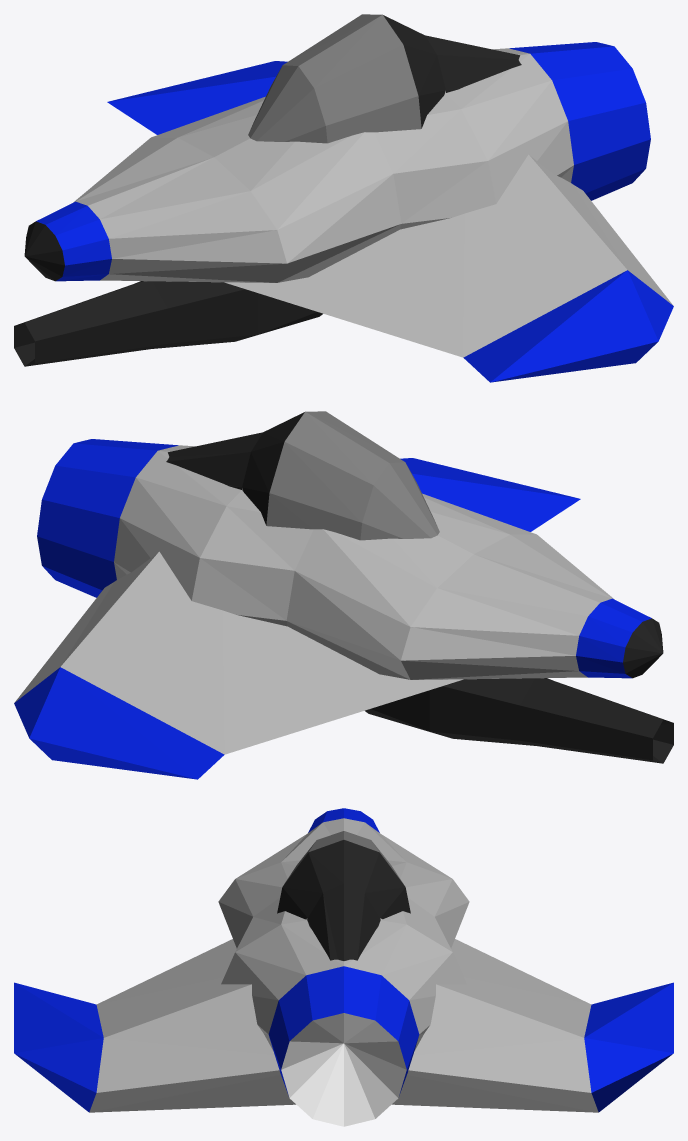
Rendered from Fly.glb.
3 views of the same model, one above another, from view 1: azimuth 30°, elevation 25°; view 2: azimuth 150°, elevation 25°; view 3: azimuth 270°, elevation 25° (orthographic). The views are drawn at different scales.
Visible parts, largest first — view 1: starblast-1788971740462, starblast-1788971740462.002, starblast-1788971740462.004, starblast-1788971740462.001, starblast-1788971740462.003; view 2: starblast-1788971740462, starblast-1788971740462.001, starblast-1788971740462.004, starblast-1788971740462.002, starblast-1788971740462.003; view 3: starblast-1788971740462, starblast-1788971740462.001, starblast-1788971740462.002, starblast-1788971740462.004, starblast-1788971740462.003.
Part boxes in pixels (x1=…): starblast-1788971740462: x1=14, y1=14, x2=673, y2=366; starblast-1788971740462.002: x1=463, y1=270, x2=673, y2=382; starblast-1788971740462.004: x1=509, y1=42, x2=650, y2=200; starblast-1788971740462.001: x1=107, y1=61, x2=287, y2=134; starblast-1788971740462.003: x1=36, y1=201, x2=111, y2=281; starblast-1788971740462: x1=14, y1=411, x2=673, y2=763; starblast-1788971740462.001: x1=14, y1=667, x2=224, y2=779; starblast-1788971740462.004: x1=37, y1=439, x2=178, y2=597; starblast-1788971740462.002: x1=400, y1=458, x2=580, y2=531; starblast-1788971740462.003: x1=576, y1=598, x2=651, y2=678; starblast-1788971740462: x1=89, y1=818, x2=598, y2=1126; starblast-1788971740462.001: x1=584, y1=982, x2=673, y2=1112; starblast-1788971740462.002: x1=14, y1=982, x2=103, y2=1112; starblast-1788971740462.004: x1=268, y1=966, x2=419, y2=1095; starblast-1788971740462.003: x1=308, y1=808, x2=379, y2=832.
Bounding box in the file's own units: 1.4 × 0.66 × 1.58.
